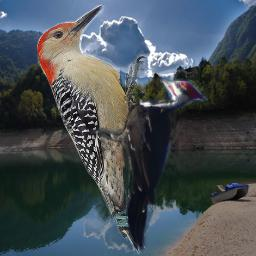Woodpecker: (37, 2, 146, 255), (88, 74, 208, 252)
